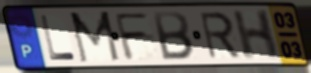B: (151, 10, 196, 62)
F: (112, 11, 152, 63)
H: (231, 8, 281, 62)
L: (39, 14, 79, 62)
M: (67, 10, 122, 65)
R: (197, 10, 243, 61)
